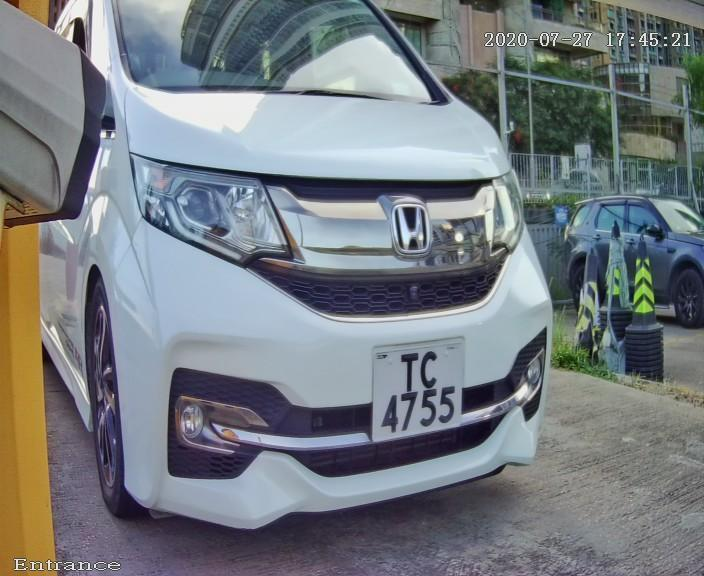privatecar: (38, 6, 598, 553)
